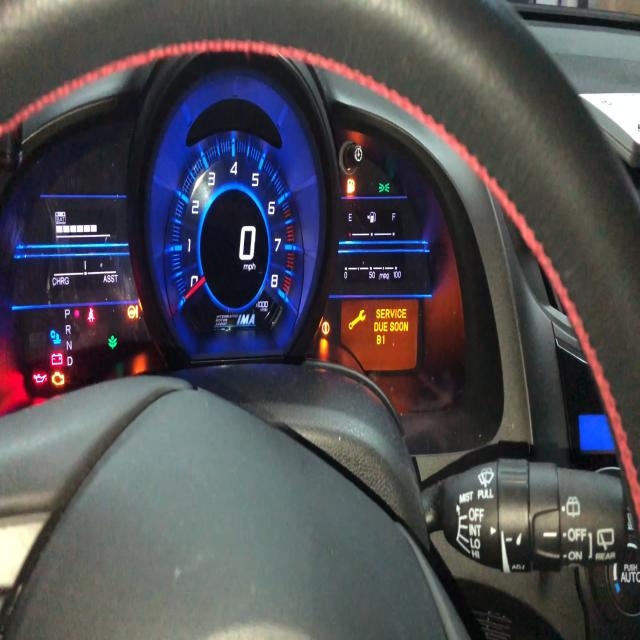Charging System Issue: (51, 353, 63, 365)
Check Engine: (51, 372, 64, 386)
Low Engine Oil Warning Light: (33, 374, 47, 384)
